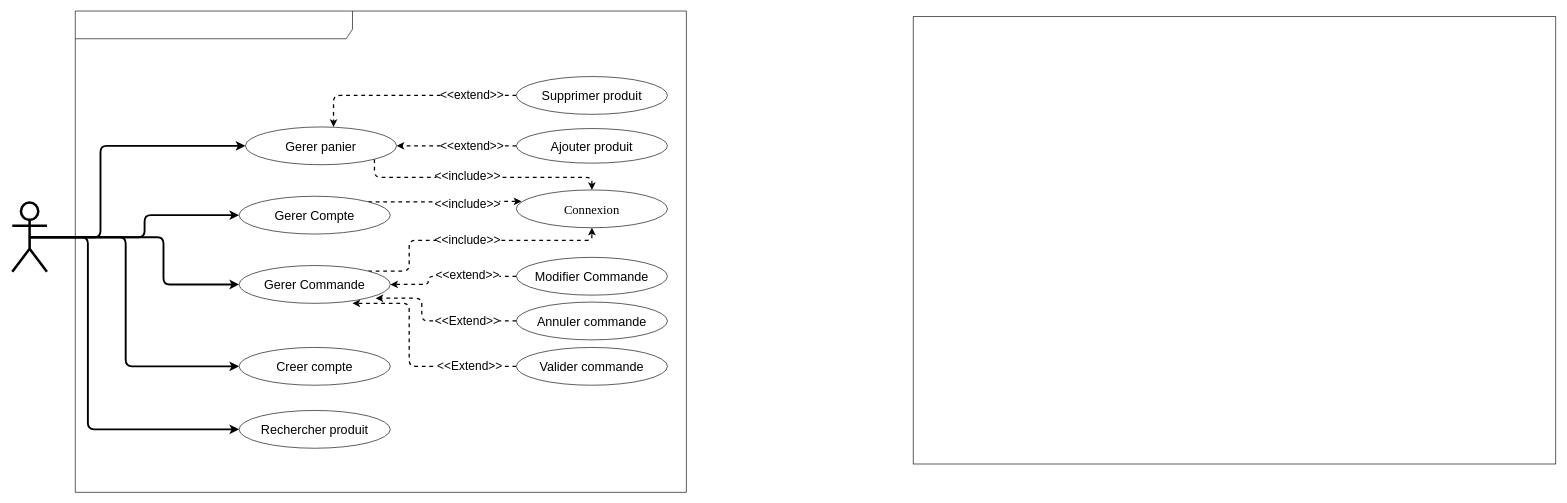
The diagram is 1567 pixels wide and 503 high, and some of its shapes have lost their labels. The box of each missing label's shape, as (x1, y1, x2, y2) in pixels:
Cllient: (11, 201, 48, 273)
Fadyl-Store cas d'utilisations client: (75, 10, 686, 492)
